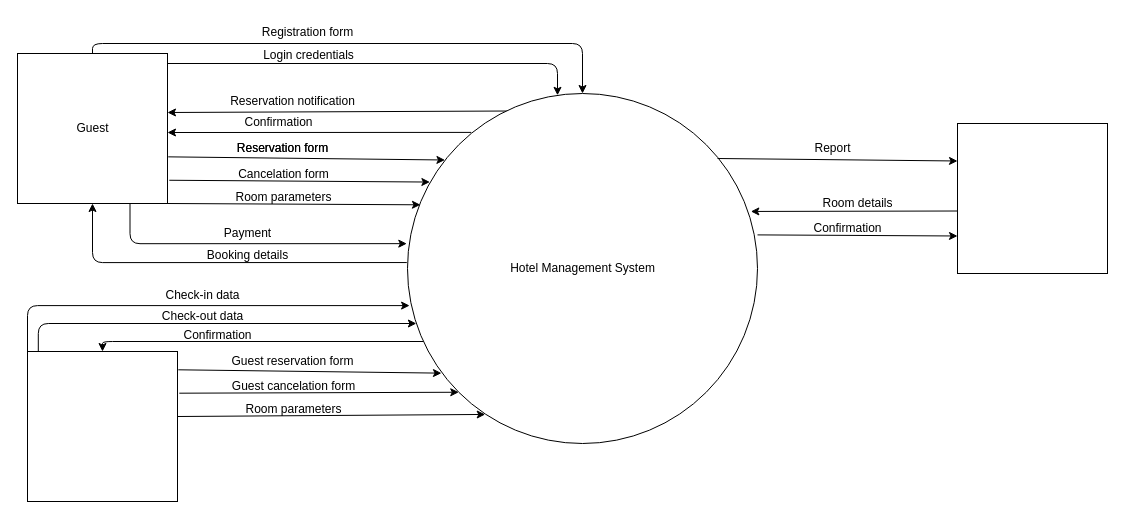
This 1125x519 diagram has some shape labels left out. The shapes that lost their labels are listed below. From the top down, each one's centre as x and y in pixels, then its label:
At [1032,198]: "Manager".
At [102,426]: "Receptionist".
